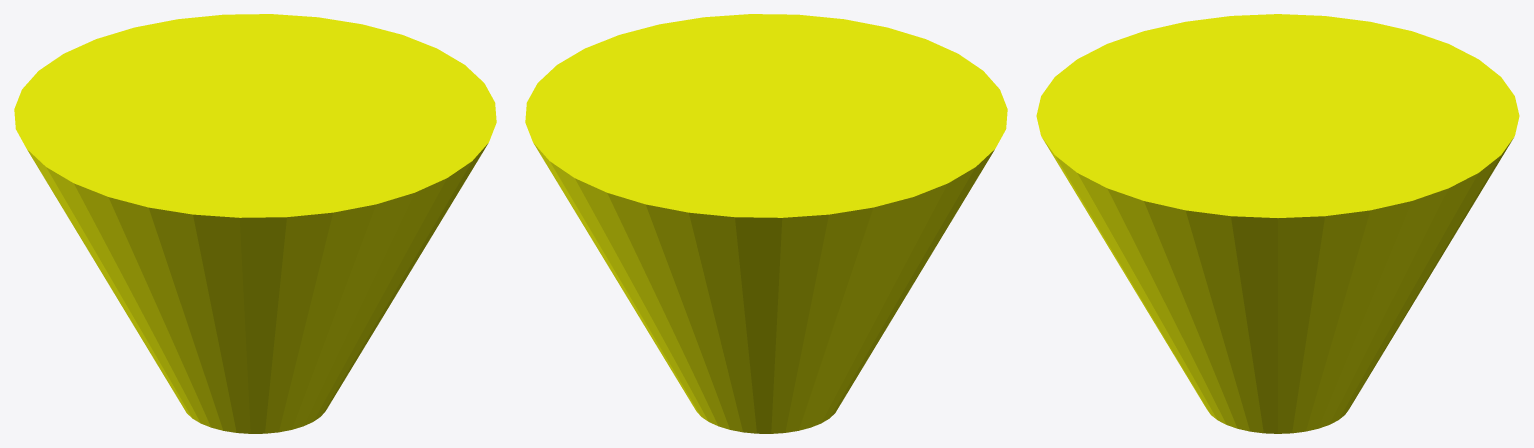
The model's file is I_Output_full_model.gltf.
The picture shows the model from 3 angles, left to right: view 1: azimuth 30°, elevation 25°; view 2: azimuth 150°, elevation 25°; view 3: azimuth 270°, elevation 25°; orthographic projection.
Visible parts, largest first — view 1: I_Output_full; view 2: I_Output_full; view 3: I_Output_full.
Part boxes in pixels (box(x1,y1,x2,y2)): I_Output_full: box(14, 14, 496, 433); I_Output_full: box(525, 14, 1007, 433); I_Output_full: box(1036, 14, 1519, 433).
Size of the model in its own units: 3.7 by 2.42 by 3.7.
